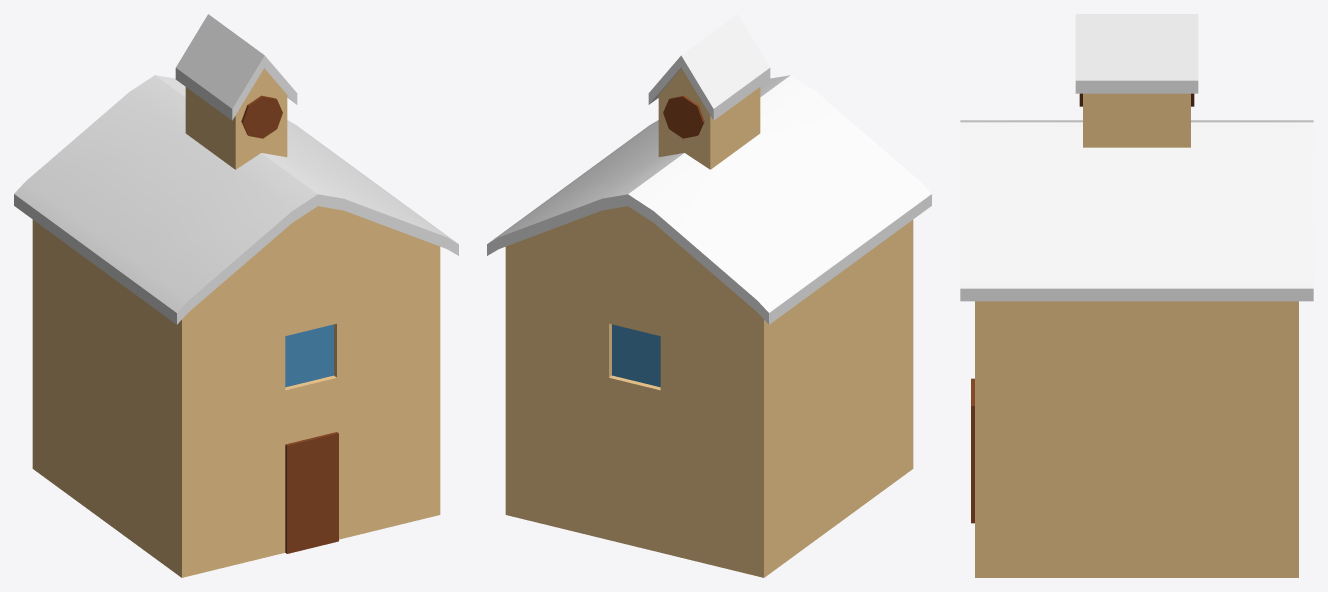
The model's file is heartBuilding.fbx.
3 views of the same model, side by side, from view 1: azimuth 30°, elevation 25°; view 2: azimuth 150°, elevation 25°; view 3: azimuth 270°, elevation 25° (orthographic). The views are drawn at different scales.
Parts seen in each view (by area): view 1: Heart; view 2: Heart; view 3: Heart.
Boxes of the visible parts, box(x1,y1,x2,y2) form: Heart: box(14, 14, 458, 577); Heart: box(487, 14, 931, 577); Heart: box(960, 14, 1313, 577).
Size of the model in its own units: 5.45 by 8.45 by 5.46.
Materials: 1 (1 with a texture image).
